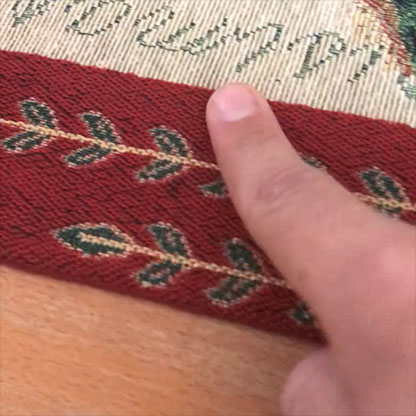fingertip: (190, 73, 292, 139)
